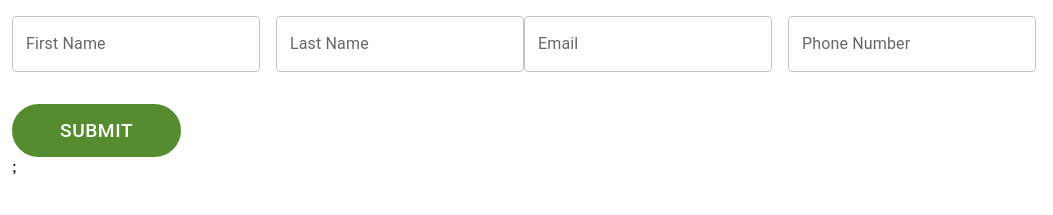
Test: Form validation › Shows error message if last name is invalid
Step 1. Type "D0e" into the field with test id "lname" → (400, 44), box [276, 16, 524, 72]
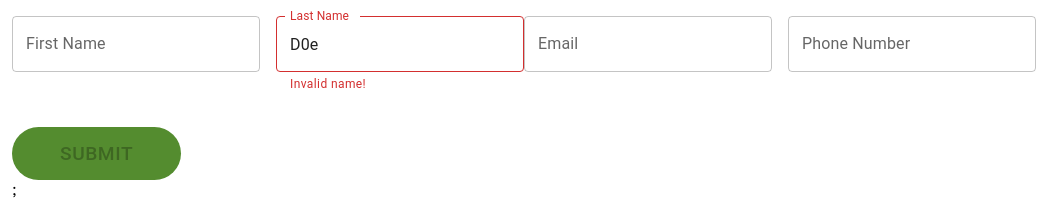
Now the text with test id "last-name-error" reads "Invalid name!", box [290, 77, 366, 91]
